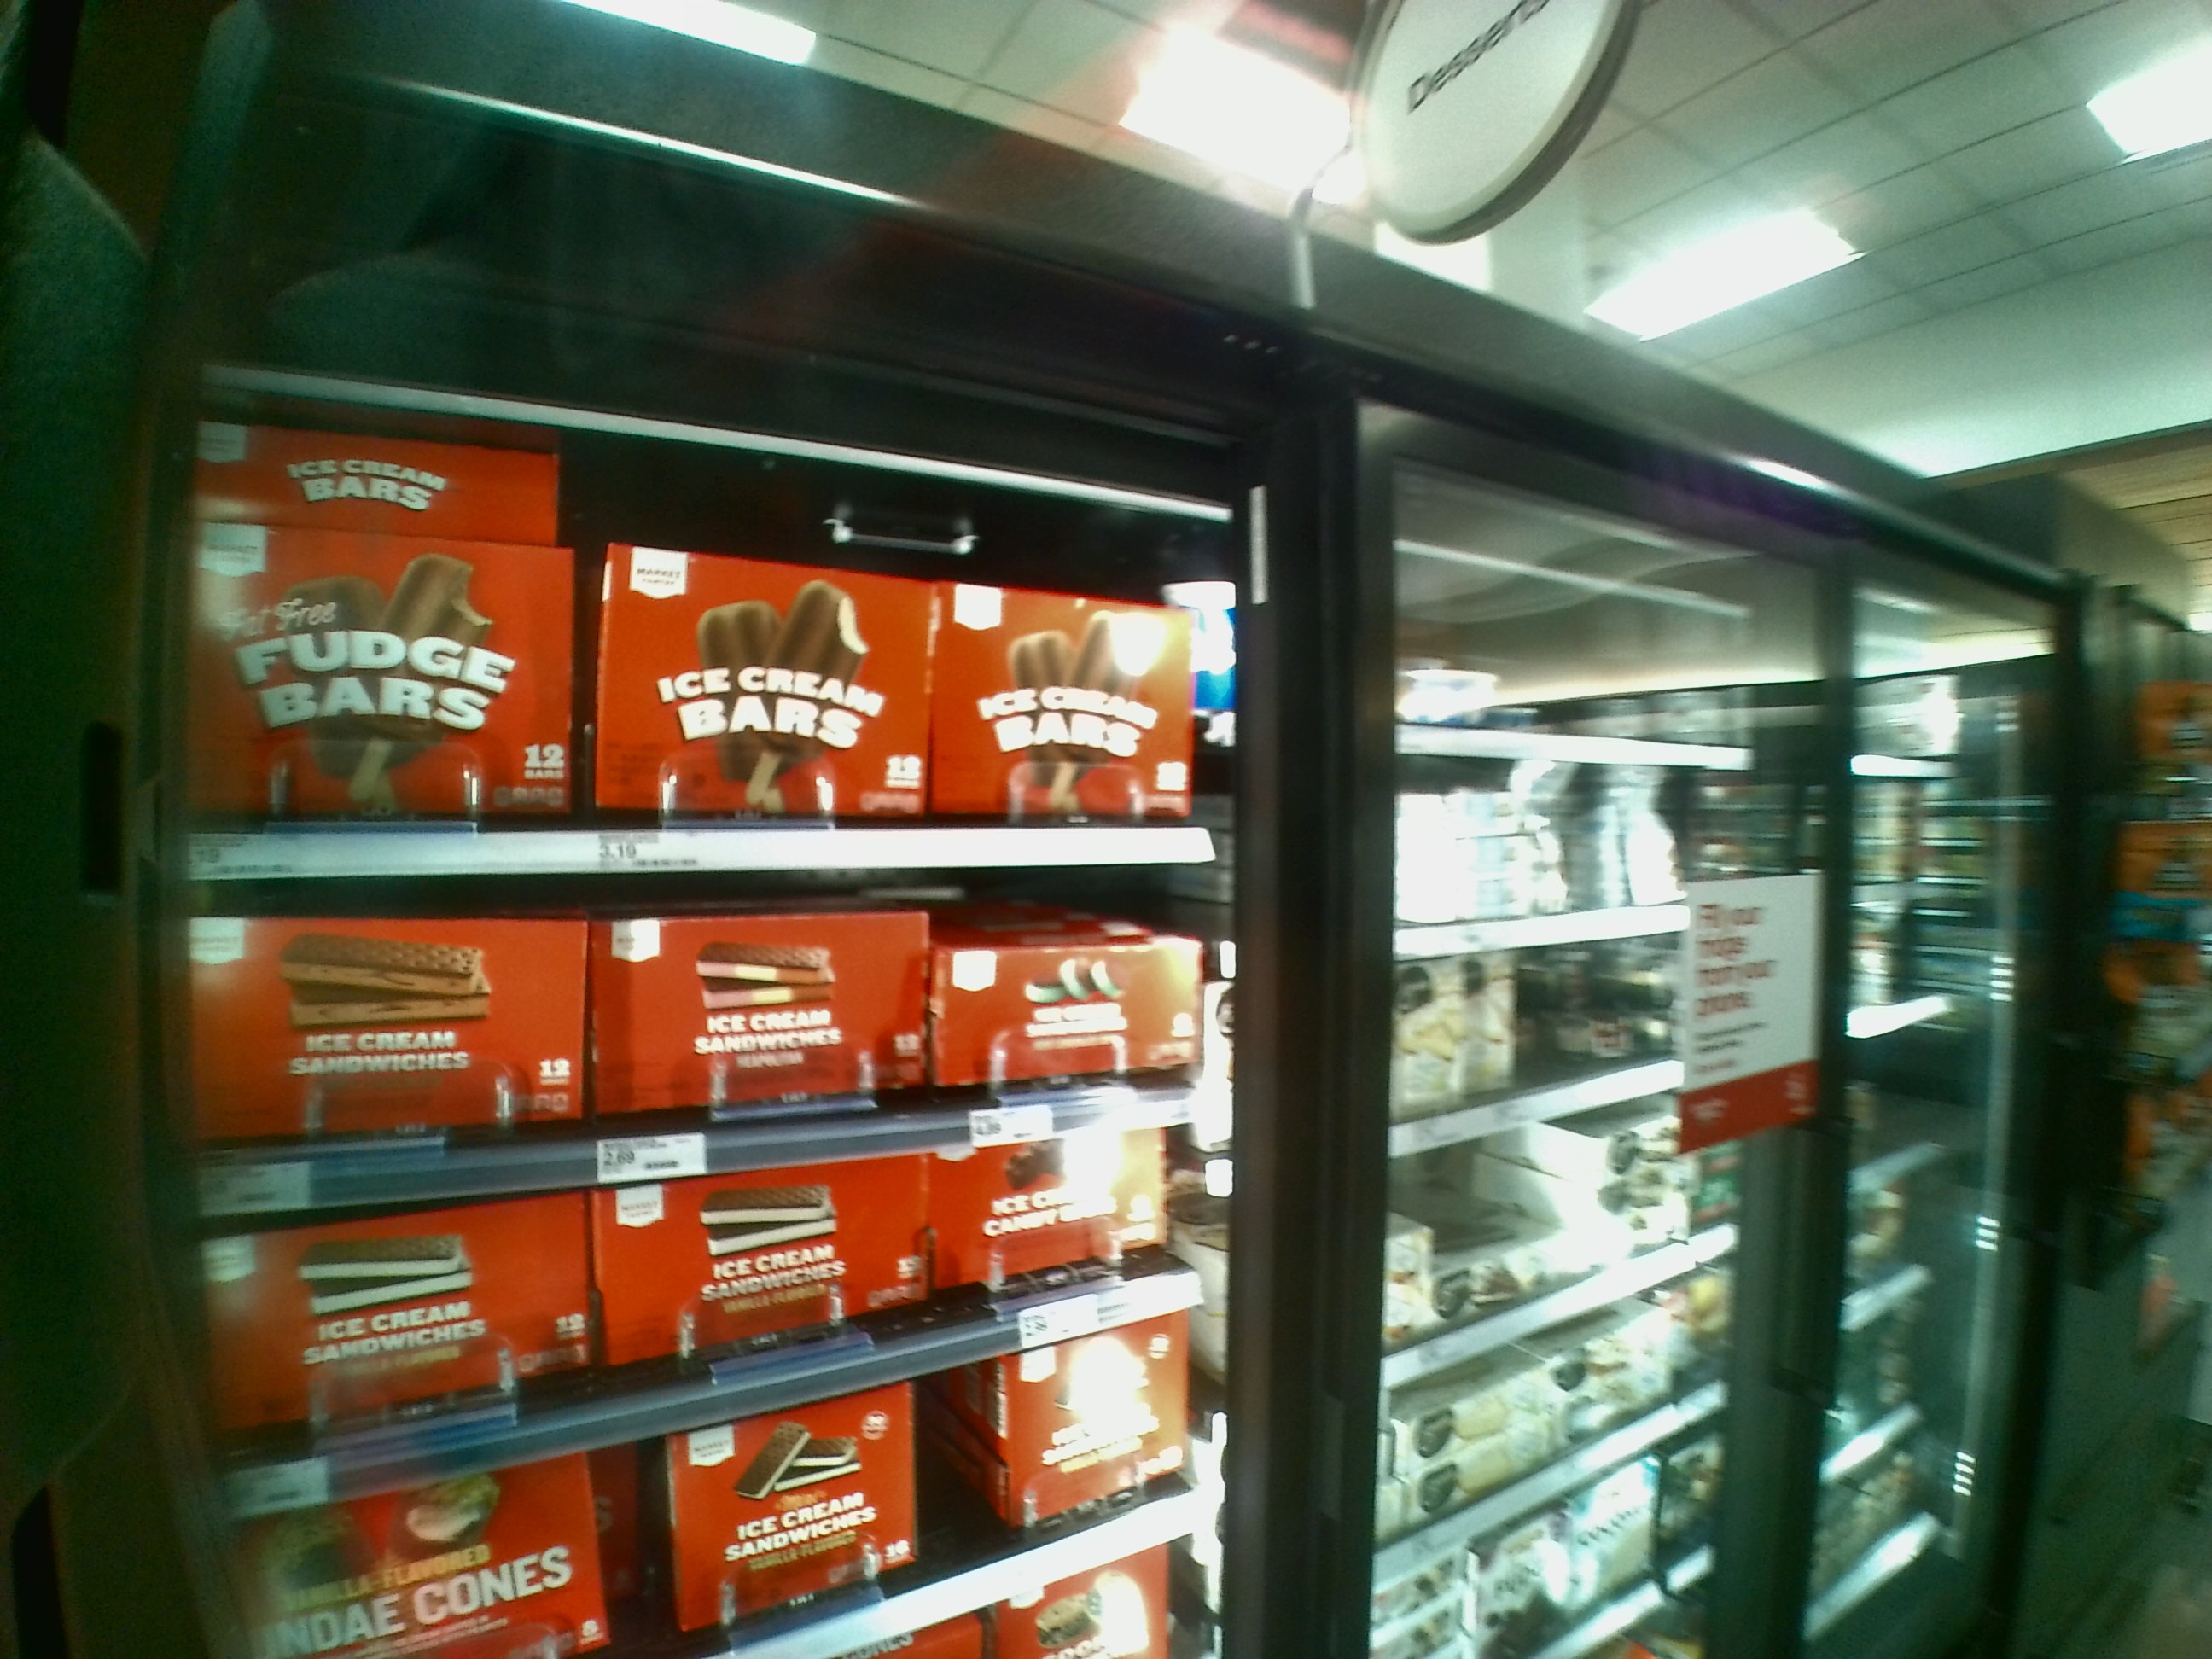shelf: (193, 418, 1226, 870), (202, 1127, 1209, 1424), (176, 877, 1219, 1140)
